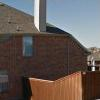Chimney: (29, 1, 57, 38)
